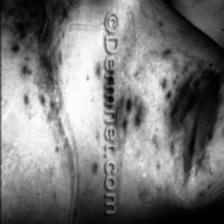Non-Cancerous Skin Condition: (0, 0, 97, 224), (120, 57, 224, 220)
